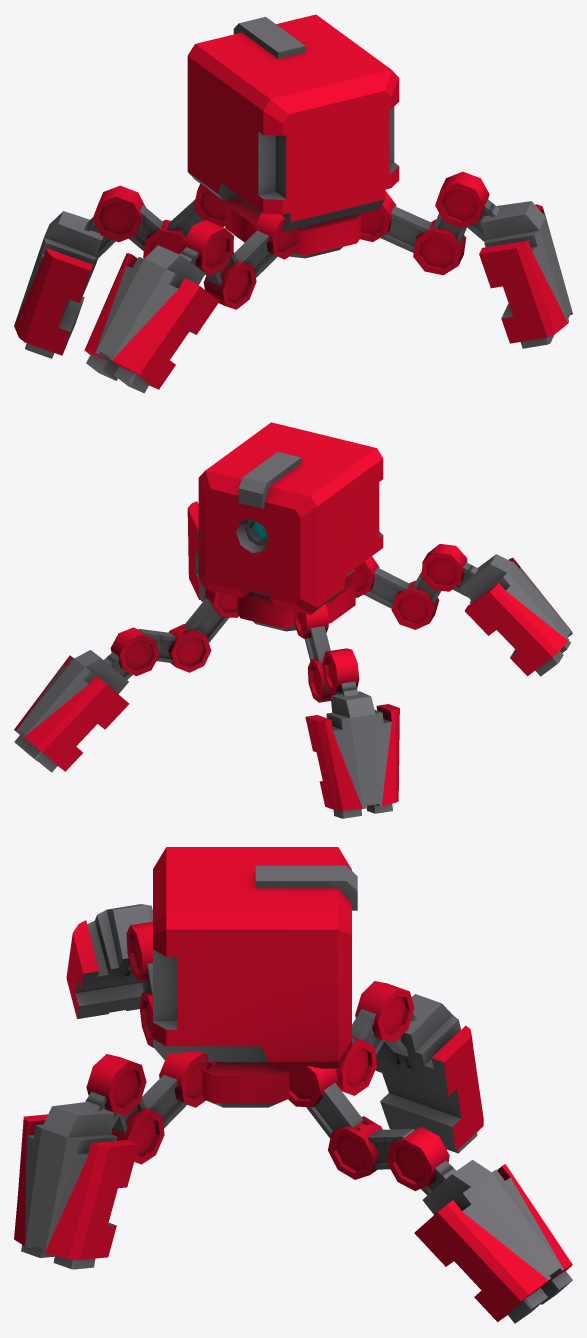
File: Monster1_Move20.obj
3 views of the same model, one above another, from view 1: azimuth 30°, elevation 25°; view 2: azimuth 150°, elevation 25°; view 3: azimuth 270°, elevation 25° (orthographic). The views are drawn at different scales.
Visible parts, largest first — view 1: Box006, Object021, Object017, Object025, Object020, Object028, Object022, Object018, Object019, Object024, Object023, Object026 (+1 smaller); view 2: Box006, Object025, Object013, Object021, Object015, Object024, Object016, Object023, Object022, Object014, Object028, Object026 (+2 smaller); view 3: Box006, Object017, Object013, Object025, Object021, Object014, Object018, Object016, Object015, Object020, Object028, Object027 (+3 smaller).
Boxes of the visible parts, x1,y1,x2,y2 form: Box006: [187, 14, 399, 258]; Object021: [84, 245, 219, 393]; Object017: [479, 201, 572, 348]; Object025: [14, 211, 103, 358]; Object020: [435, 171, 499, 241]; Object028: [84, 185, 145, 260]; Object022: [234, 212, 304, 277]; Object018: [360, 191, 431, 252]; Object019: [413, 213, 466, 275]; Object024: [179, 219, 233, 275]; Object023: [203, 252, 256, 309]; Object026: [166, 184, 239, 236]; Box006: [198, 422, 383, 631]; Object025: [305, 691, 399, 818]; Object013: [14, 650, 129, 772]; Object021: [460, 554, 572, 676]; Object015: [138, 624, 211, 672]; Object024: [422, 544, 478, 597]; Object016: [104, 627, 159, 679]; Object023: [391, 571, 441, 629]; Object022: [346, 556, 409, 608]; Object014: [183, 589, 238, 642]; Object028: [322, 648, 359, 696]; Object026: [294, 604, 330, 662]; Box006: [153, 847, 357, 1107]; Object017: [14, 1102, 138, 1269]; Object013: [414, 1160, 572, 1323]; Object025: [375, 994, 483, 1153]; Object021: [66, 904, 152, 1018]; Object014: [283, 1066, 363, 1138]; Object018: [142, 1051, 216, 1128]; Object016: [387, 1127, 456, 1195]; Object015: [328, 1116, 414, 1179]; Object020: [83, 1054, 146, 1127]; Object028: [355, 981, 416, 1056]; Object027: [336, 1009, 384, 1095].
Bounding box in the file's own units: 177 × 117 × 166.
